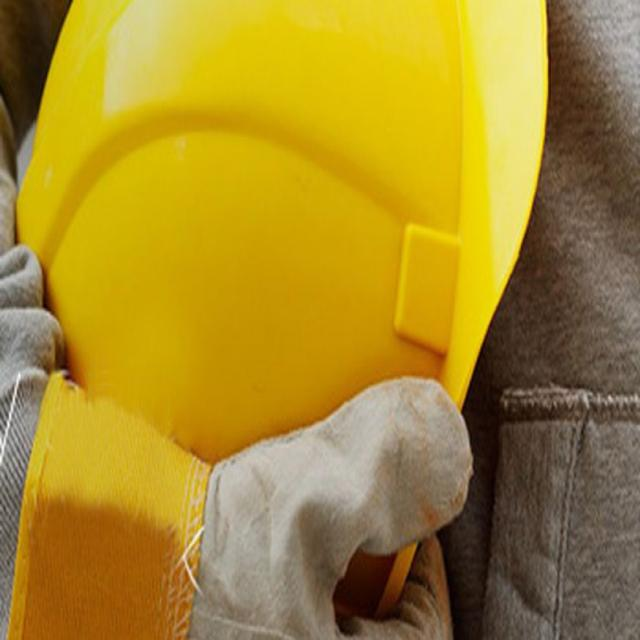helmet: (15, 0, 552, 620)
